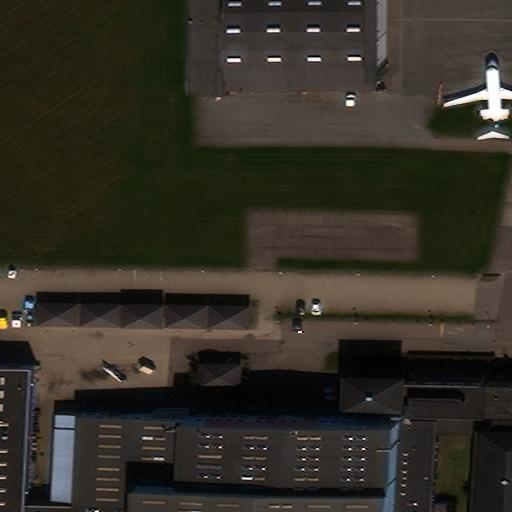Medium Civil Transport: (444, 58, 511, 139)
